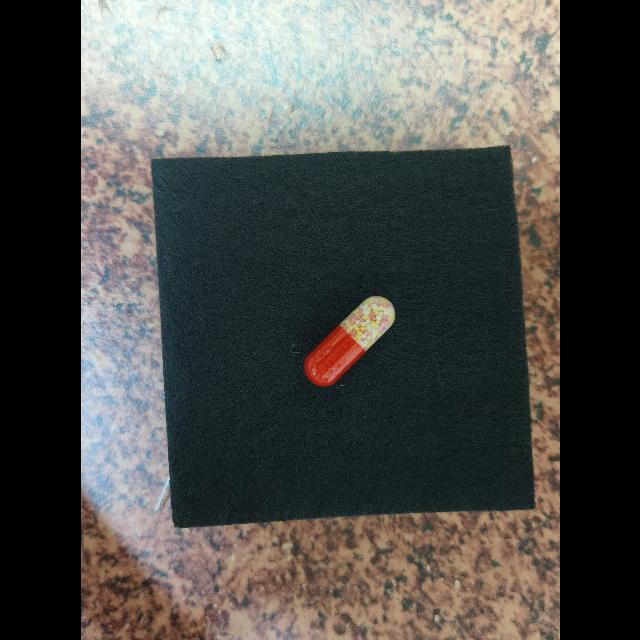Intact Capsule: (303, 296, 395, 387)
